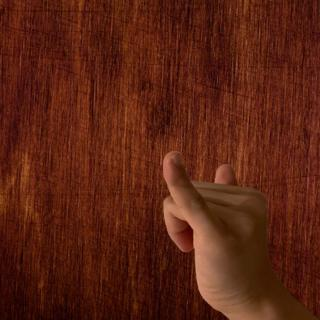HAVE: (144, 146, 290, 319)
